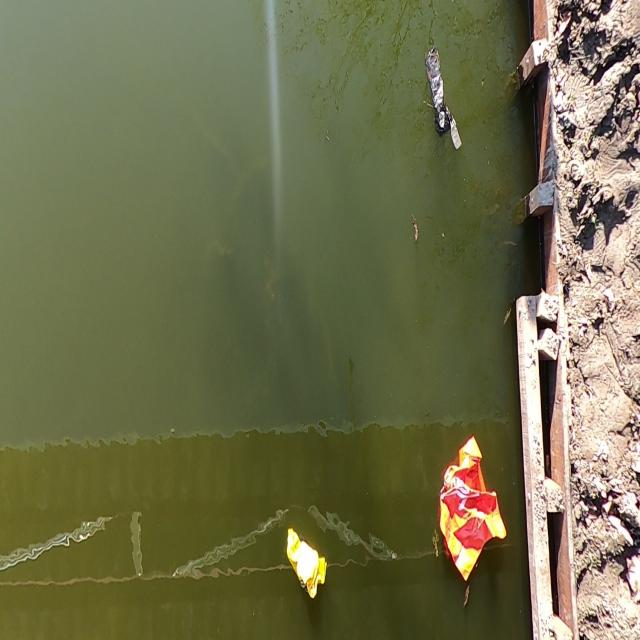Sac plastique: (430, 428, 511, 590), (420, 40, 466, 154), (280, 526, 331, 606)
